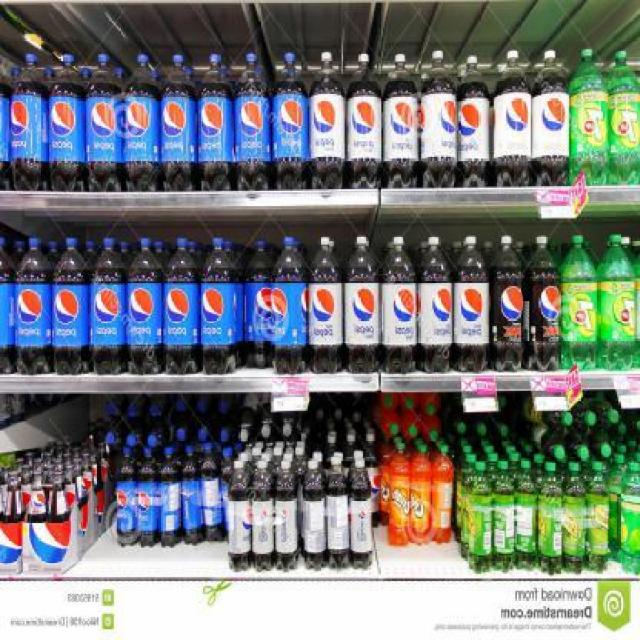Drinks: (493, 51, 532, 188), (9, 54, 48, 191), (569, 49, 608, 185), (380, 236, 418, 375), (85, 53, 123, 192), (122, 52, 160, 191), (532, 50, 570, 187), (14, 237, 52, 374), (160, 55, 198, 192), (419, 49, 456, 189), (233, 52, 270, 191), (88, 238, 125, 376), (125, 238, 162, 376), (163, 237, 200, 375), (270, 52, 307, 190), (524, 235, 561, 372), (560, 234, 597, 371), (598, 233, 634, 372), (48, 53, 84, 192), (198, 53, 234, 192), (383, 54, 420, 189), (308, 52, 344, 190), (52, 237, 88, 375), (272, 236, 308, 373), (453, 236, 489, 373), (488, 235, 524, 372), (346, 53, 382, 189), (345, 235, 380, 374), (307, 237, 342, 374), (418, 236, 453, 373), (200, 238, 235, 374), (455, 54, 490, 188), (608, 48, 638, 184), (243, 240, 272, 369), (228, 458, 252, 572), (325, 454, 349, 568), (349, 456, 373, 570), (274, 458, 297, 571), (303, 459, 326, 572), (252, 459, 274, 572), (202, 442, 225, 542), (180, 444, 202, 544), (136, 447, 158, 547), (115, 444, 136, 548), (158, 446, 179, 548)
